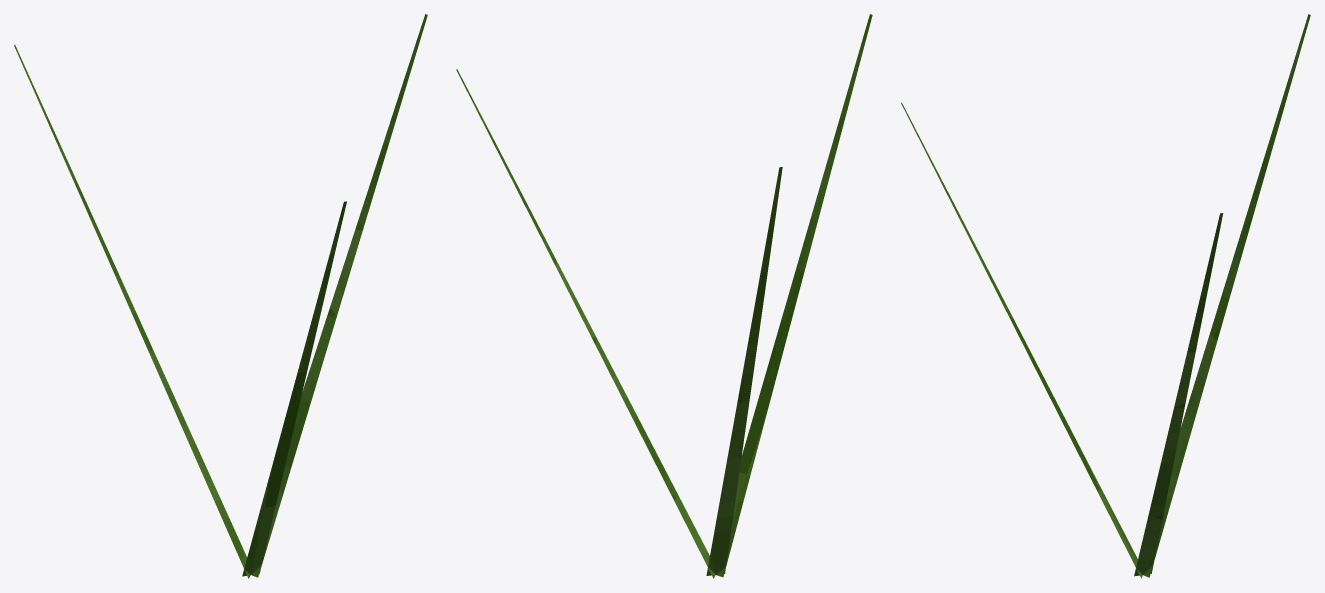
Rendered from fern01-lod2.glb.
3 renders of one model, left to right at view 1: azimuth 30°, elevation 25°; view 2: azimuth 150°, elevation 25°; view 3: azimuth 270°, elevation 25°, orthographic. The views are drawn at different scales.
Parts seen in each view (by area): view 1: TZ_ground_plant_Batch_00_LOD2; view 2: TZ_ground_plant_Batch_00_LOD2; view 3: TZ_ground_plant_Batch_00_LOD2.
Part boxes in pixels (<box>): TZ_ground_plant_Batch_00_LOD2: <box>14,14,427,578</box>; TZ_ground_plant_Batch_00_LOD2: <box>456,14,872,578</box>; TZ_ground_plant_Batch_00_LOD2: <box>901,14,1310,578</box>.
Size of the model in its own units: 0.5508 by 0.72 by 0.5464.
Materials: 1 (1 with a texture image).
